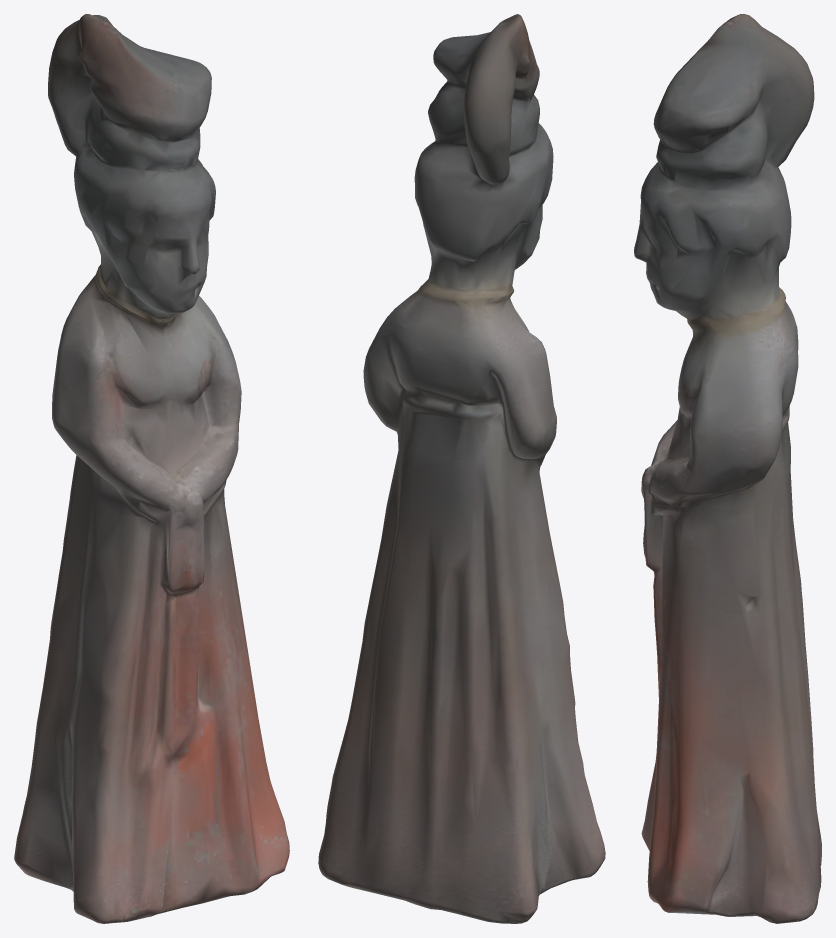
The picture shows the model from 3 angles, left to right: view 1: azimuth 30°, elevation 25°; view 2: azimuth 150°, elevation 25°; view 3: azimuth 270°, elevation 25°; orthographic projection. The views are drawn at different scales.
Parts seen in each view (by area): view 1: node_0; view 2: node_0; view 3: node_0.
Boxes of the visible parts, x1,y1,x2,y2 form: node_0: (14,14,289,923); node_0: (318,14,605,923); node_0: (634,14,821,923).
Bounding box in the file's own units: 0.3071 × 1.15 × 0.2363.
1 material, 1 textured.
